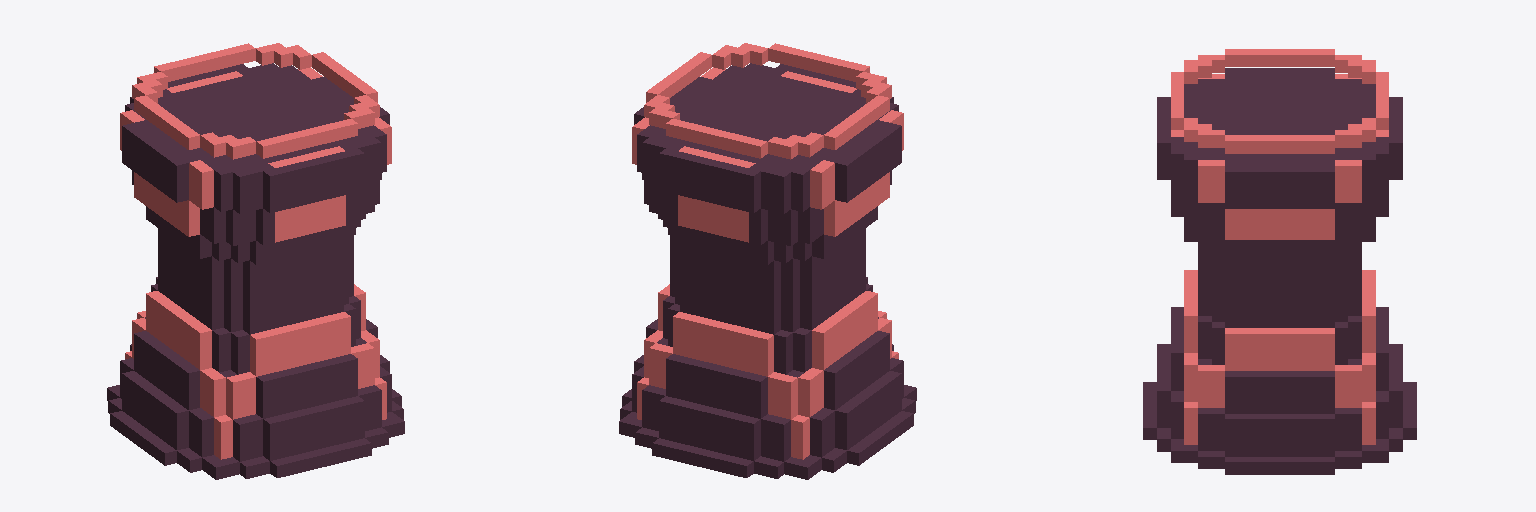
3 views of the same model, side by side, from view 1: azimuth 30°, elevation 25°; view 2: azimuth 150°, elevation 25°; view 3: azimuth 270°, elevation 25° (orthographic).
Bounding box in the file's own units: 20 × 26 × 20.
Materials: 1 (1 with a texture image).